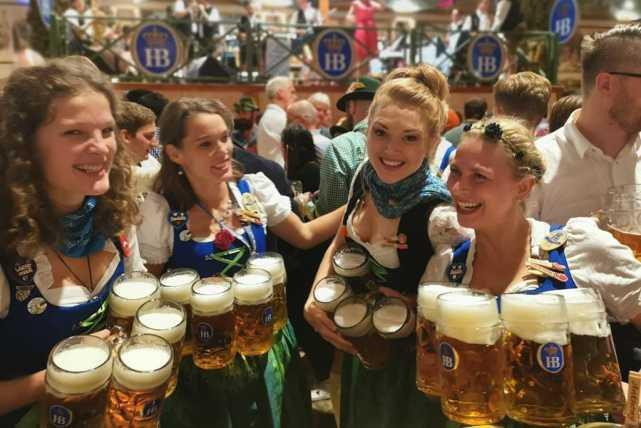Drunk: (54, 94, 117, 197), (447, 137, 512, 231), (367, 106, 423, 180), (188, 111, 234, 184)
